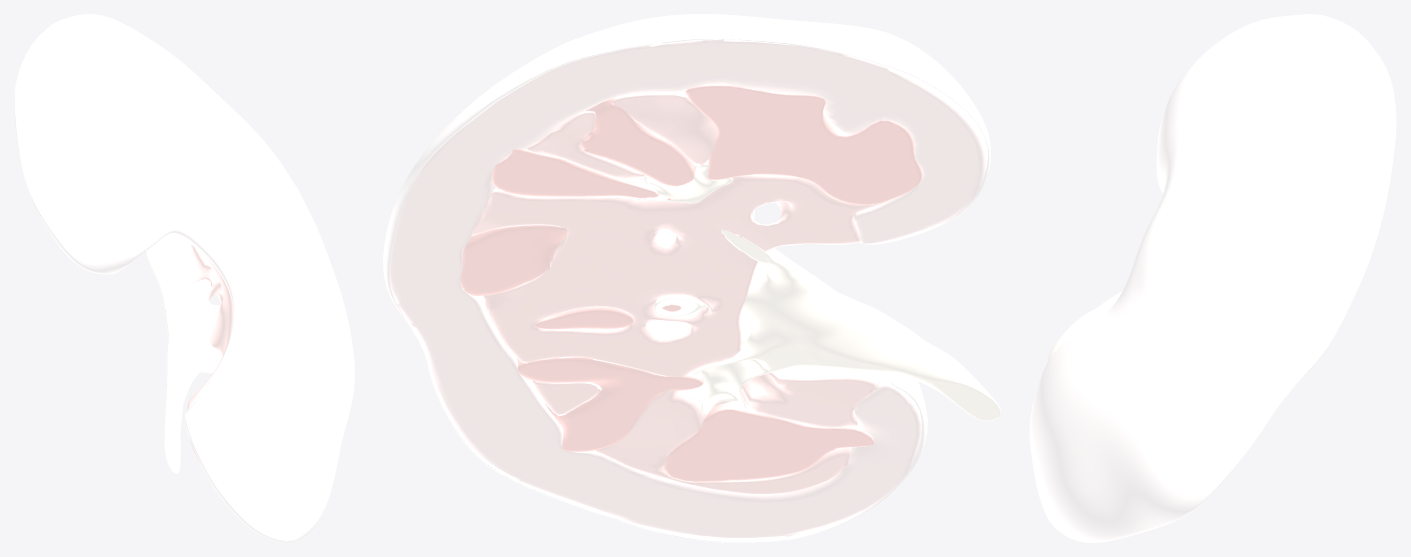
Rendered from VHM_Kidney_L_Bisect_Anterior.glb.
The picture shows the model from 3 angles, left to right: view 1: azimuth 30°, elevation 25°; view 2: azimuth 150°, elevation 25°; view 3: azimuth 270°, elevation 25°; orthographic projection. The views are drawn at different scales.
Visible parts, largest first — view 1: VHM_Kidney_L_Capsule_Anterior, VHM_Kidney_L_Calyses_Anterior, VHM_Kidney_L_RenalColumns_Anterior; view 2: VHM_Kidney_L_OuterCortex_Anterior, VHM_Kidney_L_RenalColumns_Anterior, VHM_Kidney_L_Pyramids_Anterior, VHM_Kidney_L_Calyses_Anterior, VHM_Kidney_L_Capsule_Anterior; view 3: VHM_Kidney_L_Capsule_Anterior, VHM_Kidney_L_Calyses_Anterior.
Part boxes in pixels (x1,y1,x2,y2): VHM_Kidney_L_Capsule_Anterior: (14,14,354,542); VHM_Kidney_L_Calyses_Anterior: (146,249,222,473); VHM_Kidney_L_RenalColumns_Anterior: (145,233,233,409); VHM_Kidney_L_OuterCortex_Anterior: (390,39,985,539); VHM_Kidney_L_RenalColumns_Anterior: (471,92,884,495); VHM_Kidney_L_Pyramids_Anterior: (460,84,922,482); VHM_Kidney_L_Calyses_Anterior: (625,162,1000,420); VHM_Kidney_L_Capsule_Anterior: (383,14,990,542); VHM_Kidney_L_Capsule_Anterior: (1029,14,1396,542); VHM_Kidney_L_Calyses_Anterior: (1047,291,1122,361).
Size of the model in its own units: 0.0932 by 0.123 by 0.0912.
